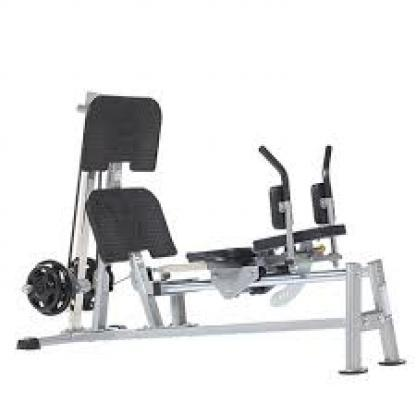leg press: (13, 50, 411, 394)
